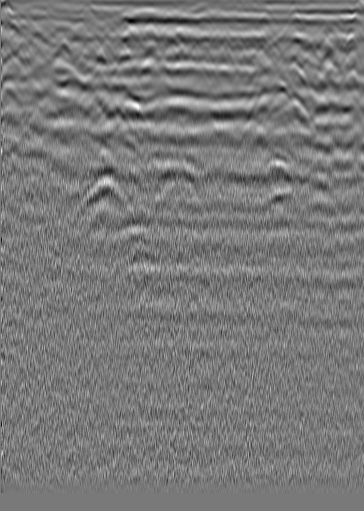가스: (263, 156, 290, 186)
상수: (0, 19, 20, 39)
오수: (321, 42, 341, 62)
우수: (168, 34, 188, 54)
